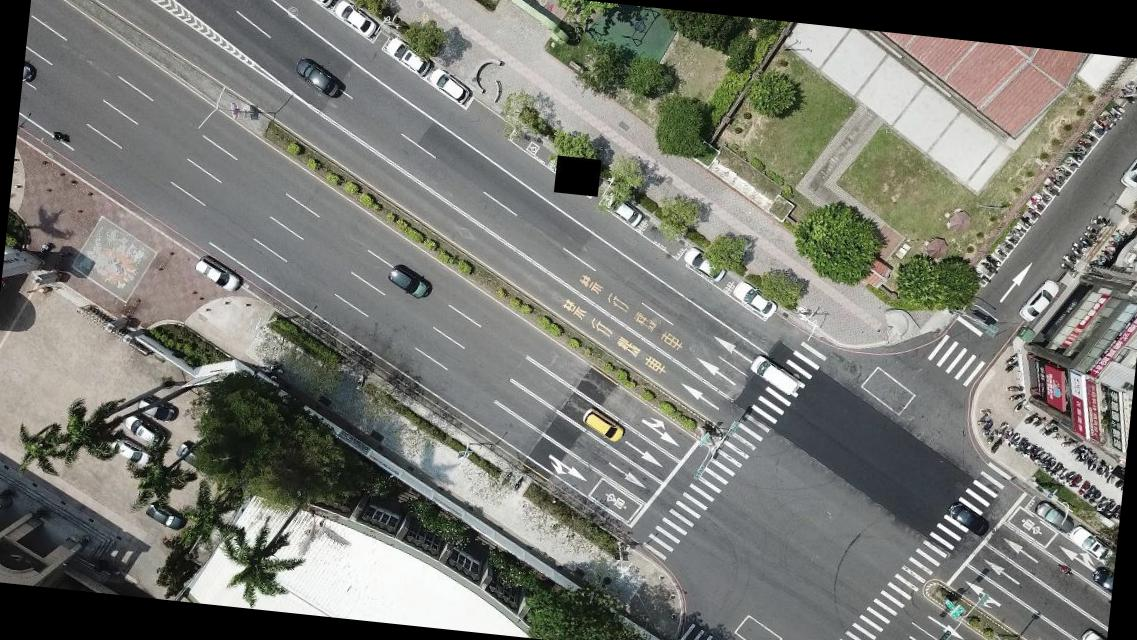vehicle: (1017, 274, 1062, 324), (291, 56, 343, 98), (749, 352, 800, 394), (330, 0, 380, 40), (945, 498, 995, 538), (732, 278, 779, 318), (384, 36, 432, 75), (384, 262, 433, 300), (194, 254, 242, 292), (579, 406, 626, 443), (108, 432, 155, 468), (428, 66, 470, 104), (683, 246, 726, 283), (1030, 501, 1076, 535), (122, 412, 168, 444), (1070, 526, 1112, 560), (145, 501, 188, 534), (606, 193, 645, 227), (136, 392, 178, 422), (175, 437, 208, 470), (1119, 142, 1136, 192), (1090, 565, 1113, 591), (289, 0, 338, 9), (1079, 630, 1107, 639)
